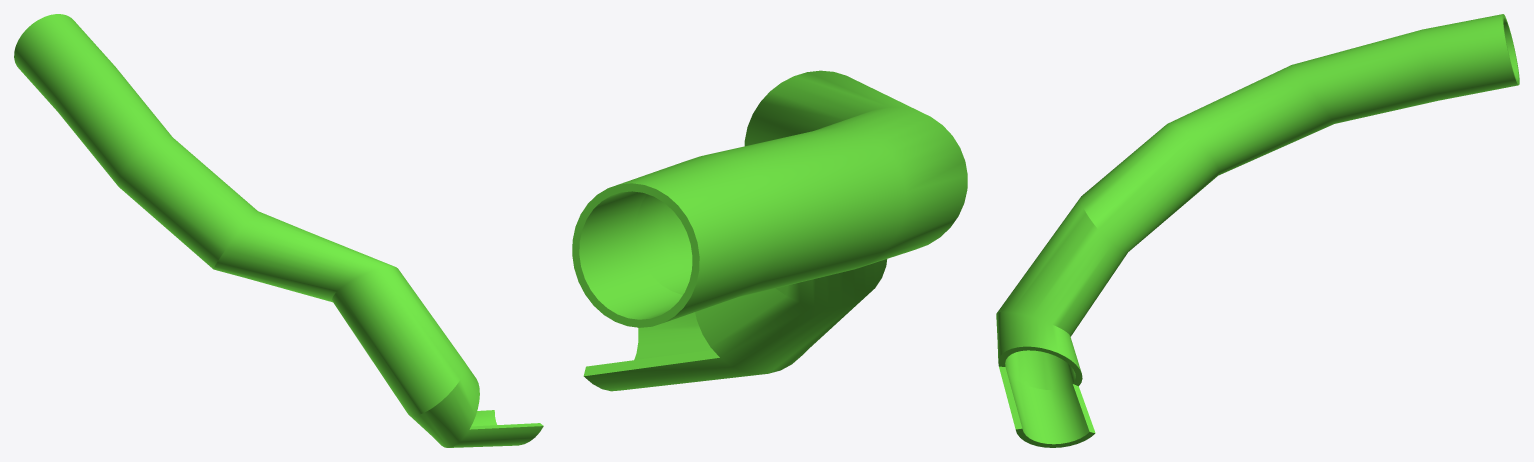
Rendered from Big Slide.fbx.
The picture shows the model from 3 angles, left to right: view 1: azimuth 30°, elevation 25°; view 2: azimuth 150°, elevation 25°; view 3: azimuth 270°, elevation 25°; orthographic projection. The views are drawn at different scales.
Parts seen in each view (by area): view 1: Cylinder; view 2: Cylinder; view 3: Cylinder.
Boxes of the visible parts, bbox=[...] form: Cylinder: bbox=[14, 14, 543, 447]; Cylinder: bbox=[572, 70, 967, 391]; Cylinder: bbox=[996, 14, 1519, 447].
Bounding box in the file's own units: 520 × 567 × 844.
